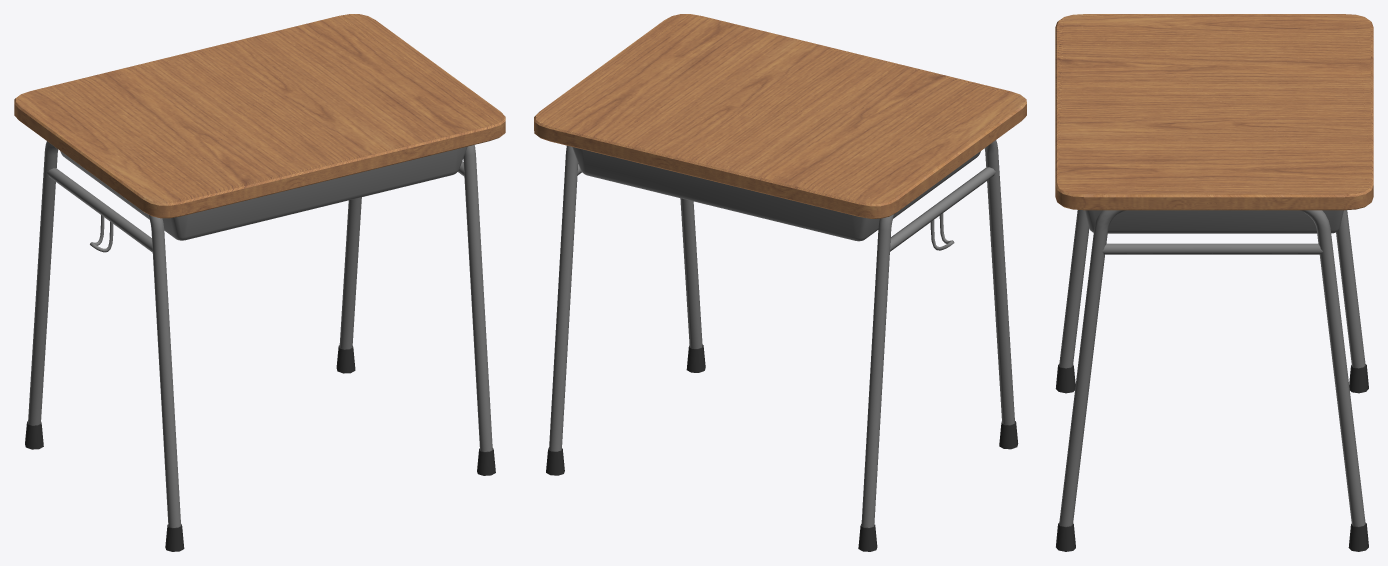
The model's file is SM_table_01.fbx.
The picture shows the model from 3 angles, left to right: view 1: azimuth 30°, elevation 25°; view 2: azimuth 150°, elevation 25°; view 3: azimuth 270°, elevation 25°; orthographic projection. The views are drawn at different scales.
Parts seen in each view (by area): view 1: table01; view 2: table01; view 3: table01.
Boxes of the visible parts, <box> form: table01: <box>14,14,505,551</box>; table01: <box>534,14,1026,551</box>; table01: <box>1055,14,1373,551</box>.
Bounding box in the file's own units: 44.16 × 41.16 × 32.59.
Materials: 3 (1 with a texture image).
